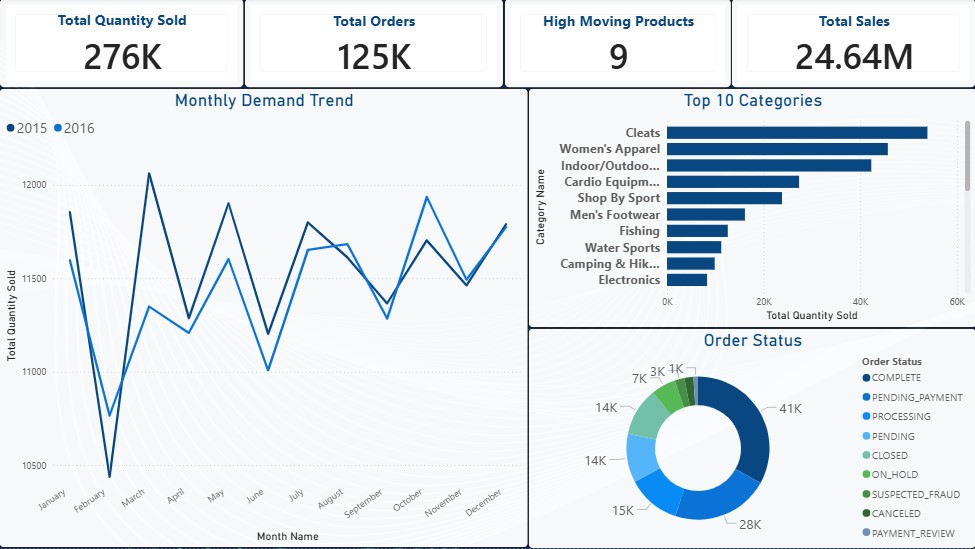

The page's visual inventory and layout, read from the dashboard file:
{"tool":"powerbi","page":{"name":"Overview","canvas":[1280,720],"ordinal":0},"visuals":[{"type":"cardVisual","fields":{"Data":["DataCoSupplyChainDataset.Total Quantity Sold"]},"box":[0,0,321.1,118.1],"z":0},{"type":"cardVisual","fields":{"Data":["DataCoSupplyChainDataset.Slow Moving Products"]},"box":[661,0,298.1,118.1],"z":1000},{"type":"cardVisual","fields":{"Data":["DataCoSupplyChainDataset.Total Orders"]},"box":[321.1,0,339.8,118.1],"z":2000},{"type":"cardVisual","fields":{"Data":["DataCoSupplyChainDataset.Total Sales"]},"box":[958.9,0,321.1,118.1],"z":3000},{"type":"clusteredBarChart","title":"Top 10 Categories","fields":{"Y":["DataCoSupplyChainDataset.Total Quantity Sold"],"Category":["DataCoSupplyChainDataset.Category Name"]},"box":[692.6,118.1,587.5,313.9],"z":4000},{"type":"lineChart","title":" Monthly Demand Trend","fields":{"Category":["DataCoSupplyChainDataset.Month Name"],"Y":["DataCoSupplyChainDataset.Total Quantity Sold"],"Series":["DataCoSupplyChainDataset.Year"]},"box":[0,118.1,692.6,601.9],"z":5000},{"type":"donutChart","title":"Order Status","fields":{"Y":["DataCoSupplyChainDataset.Total Orders"],"Category":["DataCoSupplyChainDataset.Order Status"]},"box":[692.9,431.4,587.1,288.6],"z":6000}]}

Visuals, with their boxes in screenshot pixels (x1, y1, x2, y2), scaled from the page's 1280x720 canvas onto the 975x549 screenshot:
cardVisual - DataCoSupplyChainDataset.Total Quantity Sold: [0, 0, 245, 90]
cardVisual - DataCoSupplyChainDataset.Slow Moving Products: [503, 0, 731, 90]
cardVisual - DataCoSupplyChainDataset.Total Orders: [245, 0, 503, 90]
cardVisual - DataCoSupplyChainDataset.Total Sales: [730, 0, 974, 90]
"Top 10 Categories" clusteredBarChart: [528, 90, 974, 329]
" Monthly Demand Trend" lineChart: [0, 90, 528, 548]
"Order Status" donutChart: [528, 329, 974, 548]
